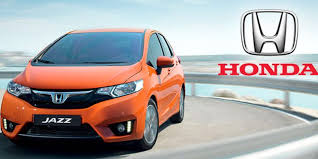Honda: (1, 25, 186, 151)
